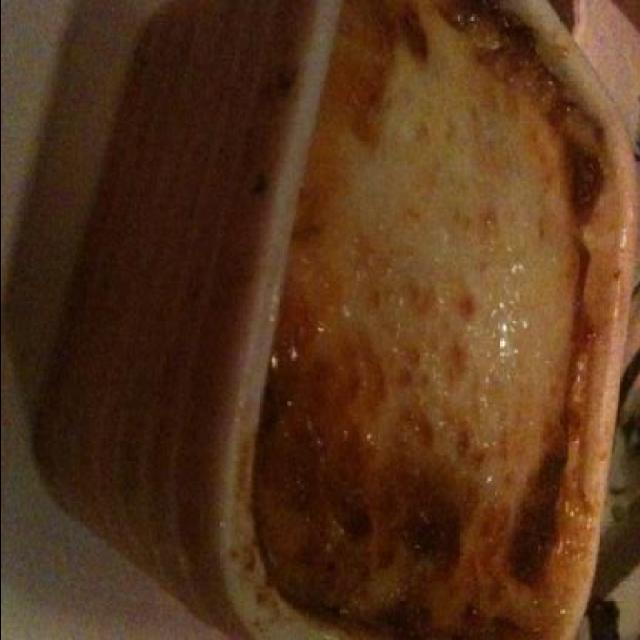Lasagna: (240, 27, 624, 636)
